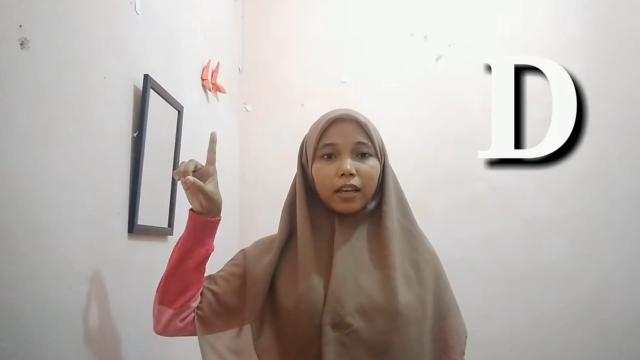D: (172, 128, 222, 217)
